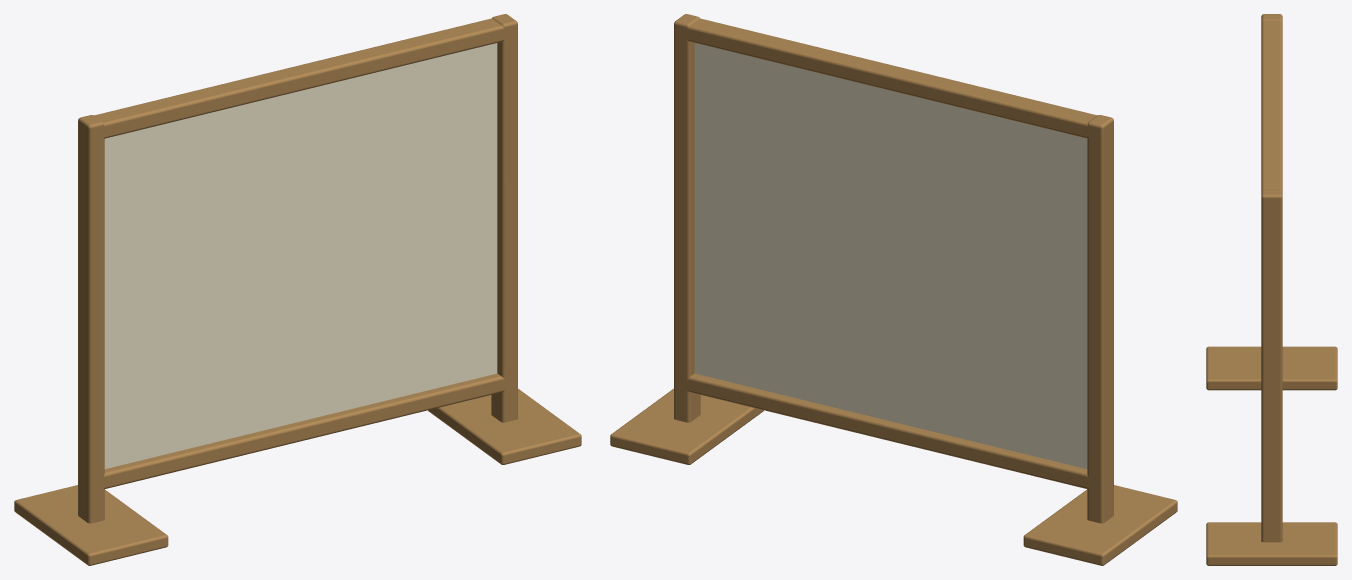
The model's file is abandoned-puppet-theatre-and-prop-vault-shadow-screen--aeaf5906__31086.glb.
The picture shows the model from 3 angles, left to right: view 1: azimuth 30°, elevation 25°; view 2: azimuth 150°, elevation 25°; view 3: azimuth 270°, elevation 25°; orthographic projection. The views are drawn at different scales.
Visible parts, largest first — view 1: shadow-screen-frame; view 2: shadow-screen-frame; view 3: shadow-screen-frame.
Part boxes in pixels (x1,y1,x2,y2): shadow-screen-frame: [14, 14, 581, 565]; shadow-screen-frame: [610, 14, 1177, 565]; shadow-screen-frame: [1206, 14, 1337, 565].
Size of the model in its own units: 2.08 by 1.65 by 0.55.
